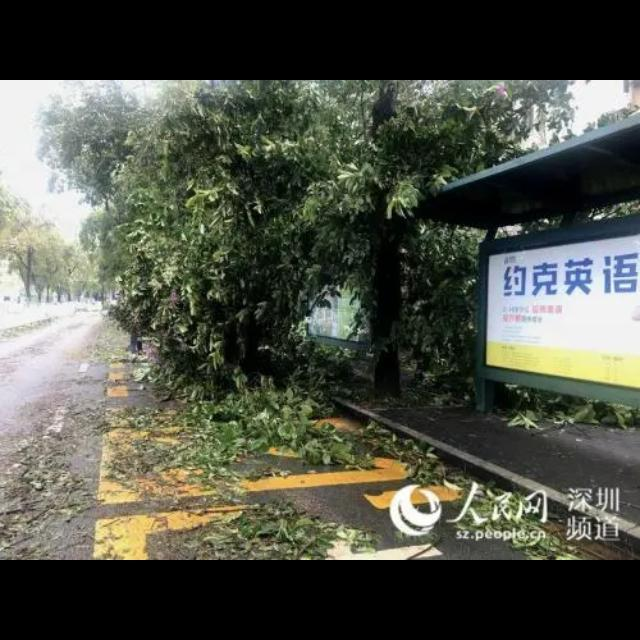fallen_tree: (405, 228, 639, 430), (125, 268, 349, 462)
